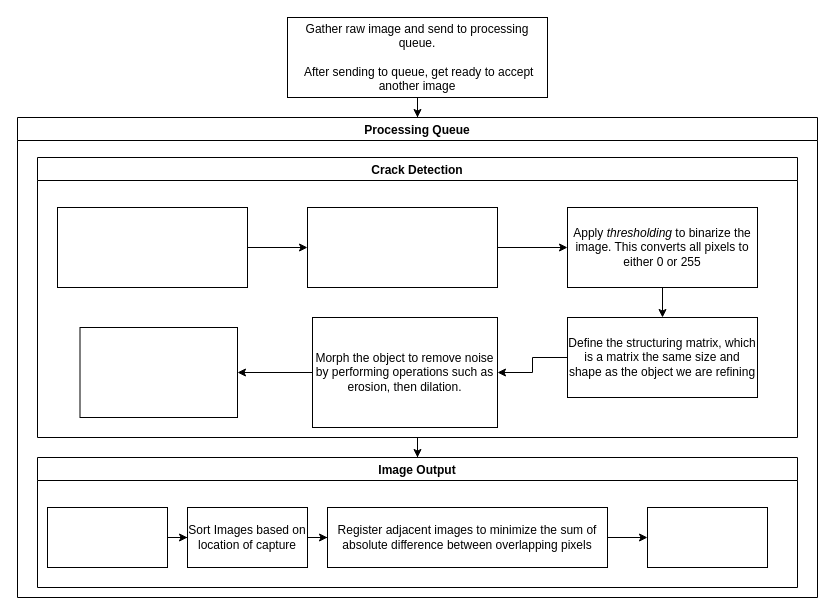
Some shapes in this 835 by 615 pixel diagram are drawn without their labels. Here are the shapes that lost their labels. From the top down, the centre of each, then its label:
At (152,247): "Define the source of the image input to convert to OpenCV object".
At (402,247): "Convert image from original colour space to greyscale".
At (158,372): "Find contours, draw contour boundaries, and queue image for image output".
At (107,537): "Gather Images from previous stages in queue".
At (707,537): "Display stitched image".
